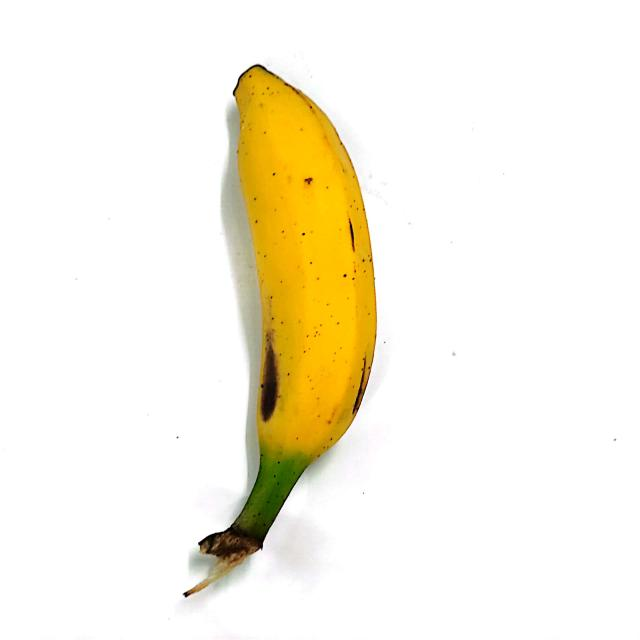fresh_banana: (234, 67, 376, 552)
